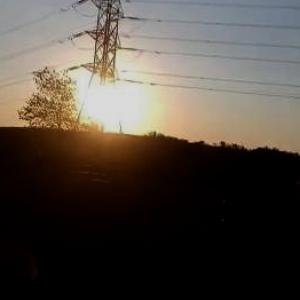follow: (175, 176, 269, 299)
